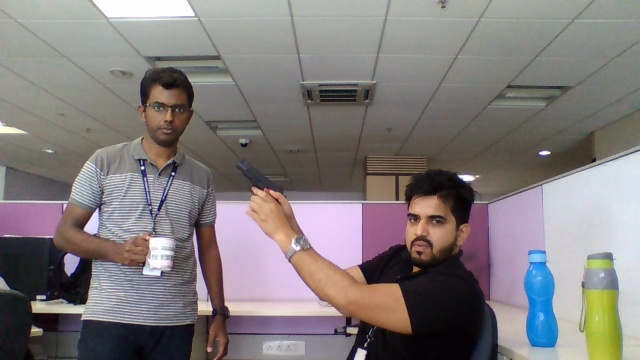gun: (233, 153, 284, 194)
